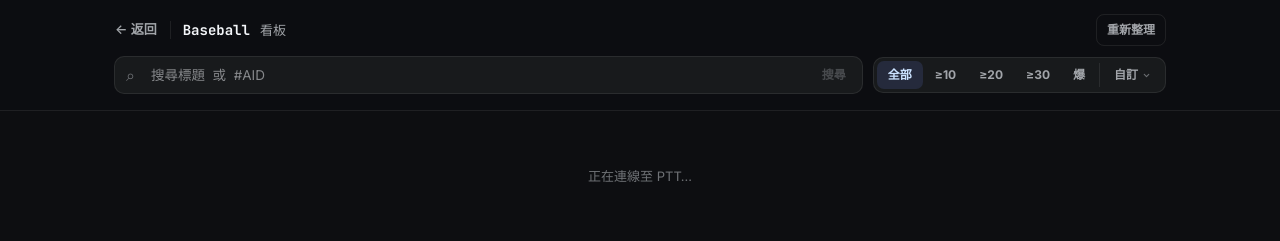
Scenario: ArticleList › adds multiple keyword filters and clears the search input after each commit
Type "今日" into the field with placeholder "搜尋標題 或 #AID" at point(475, 75), box [141, 57, 810, 93]
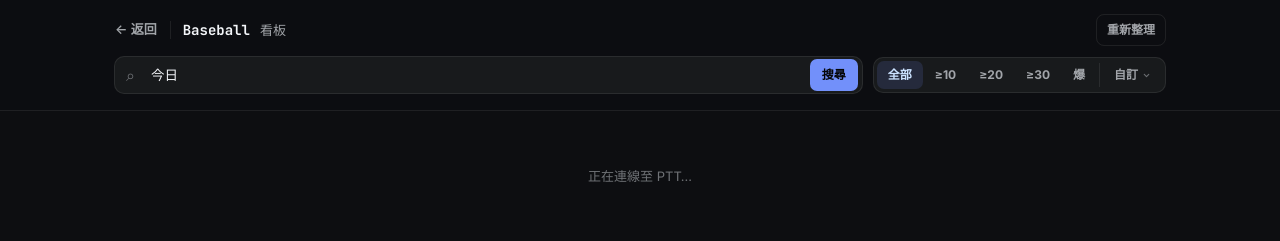
Click the button "搜尋" at point(834, 75), box [810, 59, 858, 91]
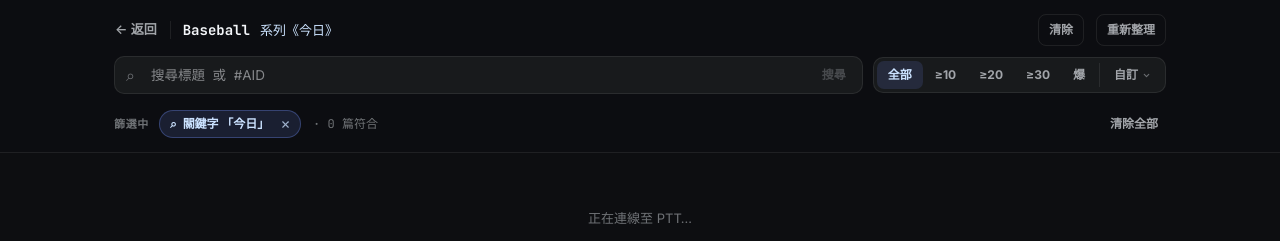
expect the field with placeholder "搜尋標題 或 #AID" is empty: met
expect the text "「今日」" is shown: met, box [221, 116, 269, 132]
Type "郭泓志" into the field with placeholder "搜尋標題 或 #AID" at point(475, 75), box [141, 57, 810, 93]
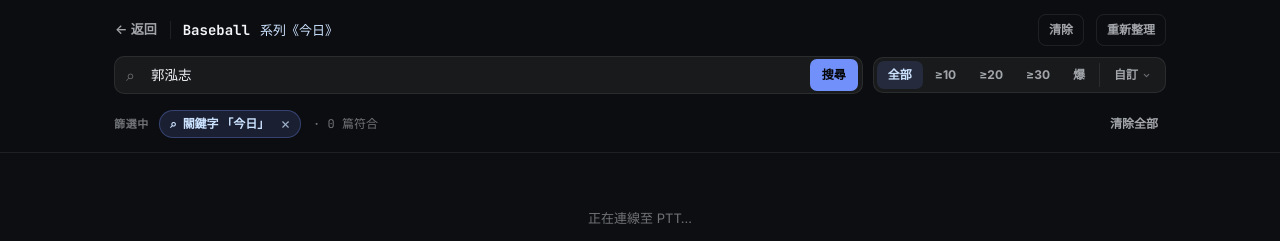
Click the button "搜尋" at point(834, 75), box [810, 59, 858, 91]
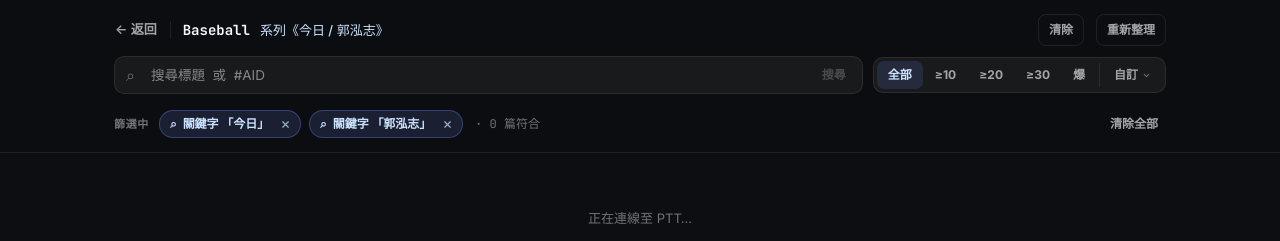
expect the text "「今日」" is shown: met, box [221, 116, 269, 132]
expect the field with placeholder "搜尋標題 或 #AID" is empty: met, box [141, 57, 810, 93]
expect the text "「郭泓志」" is shown: met, box [371, 116, 431, 132]
Click the button titled "清除關鍵字 今日" at point(286, 124), box [275, 116, 296, 133]
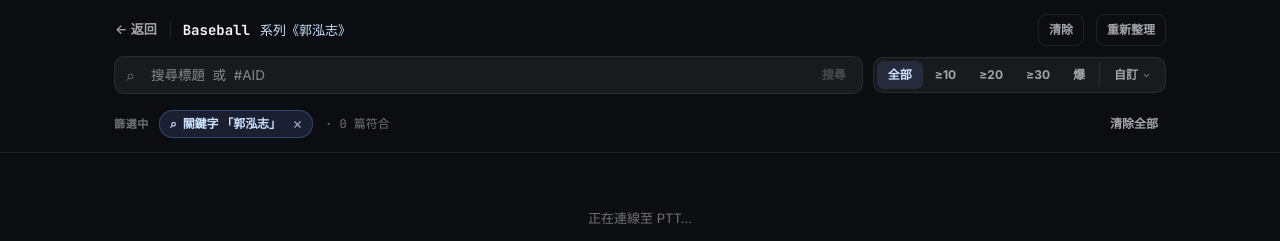
expect the text "「郭泓志」" is shown: met, box [221, 116, 281, 132]
expect the text "「今日」" is gone: met
